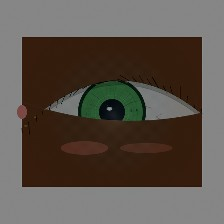lid_lesion: (81, 123, 143, 173)
